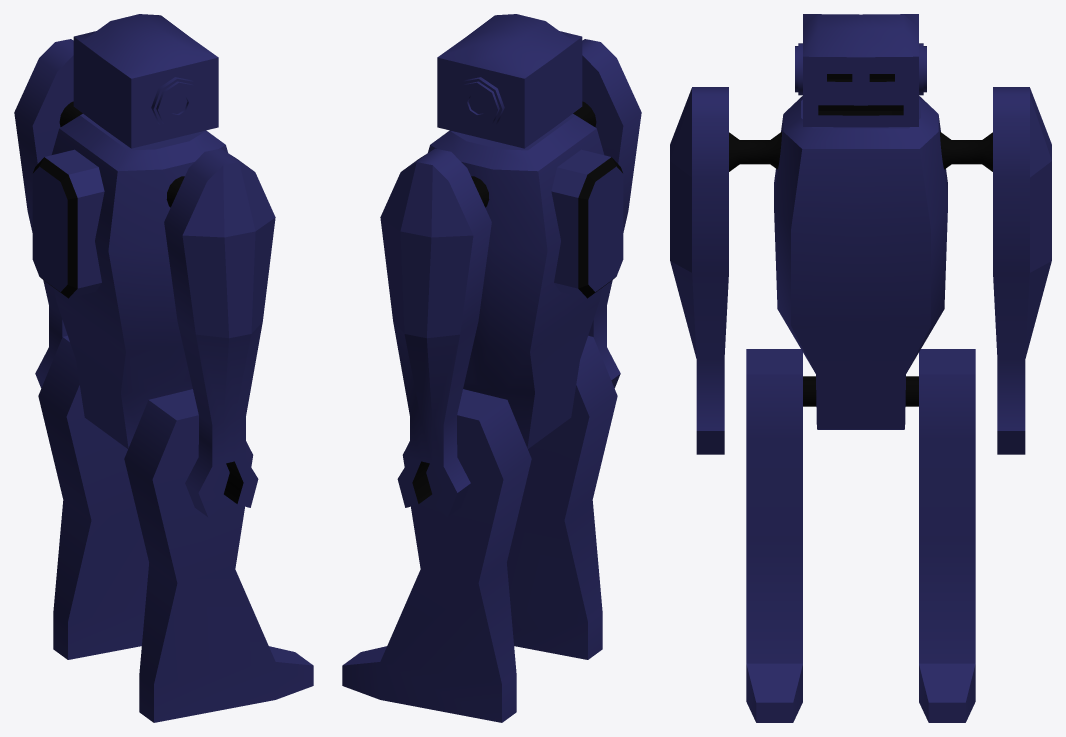
File: SM_Robot.glb
The picture shows the model from 3 angles, left to right: view 1: azimuth 30°, elevation 25°; view 2: azimuth 150°, elevation 25°; view 3: azimuth 270°, elevation 25°; orthographic projection.
Parts seen in each view (by area): view 1: SM_Robot; view 2: SM_Robot; view 3: SM_Robot.
Boxes of the visible parts, x1,y1,x2,y2 form: SM_Robot: (14, 14, 313, 722); SM_Robot: (342, 14, 641, 722); SM_Robot: (670, 14, 1051, 722).
Size of the model in its own units: 0.6145 by 1.78 by 0.957.
